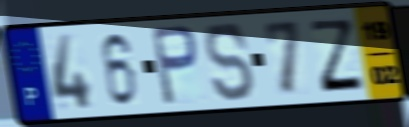4: (49, 31, 97, 113)
6: (100, 31, 141, 108)
7: (262, 17, 304, 99)
P: (149, 23, 201, 108)
S: (203, 20, 257, 105)
Z: (308, 18, 367, 95)
